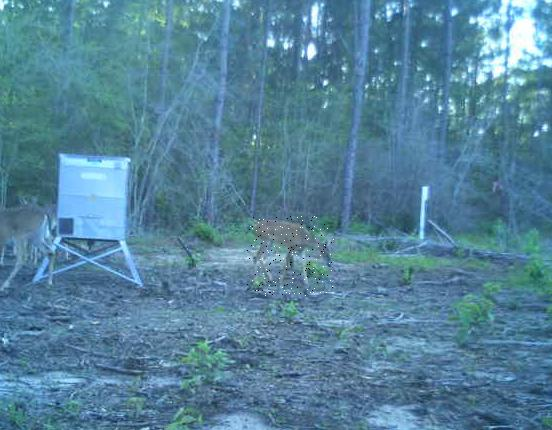Deer: (247, 217, 334, 297), (0, 188, 58, 295)
